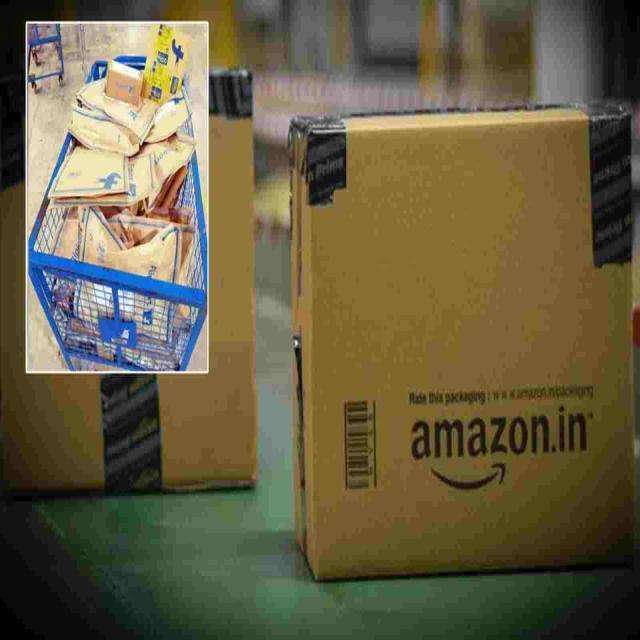cardboxes: (74, 225, 190, 356), (62, 98, 156, 164), (57, 138, 134, 214)
